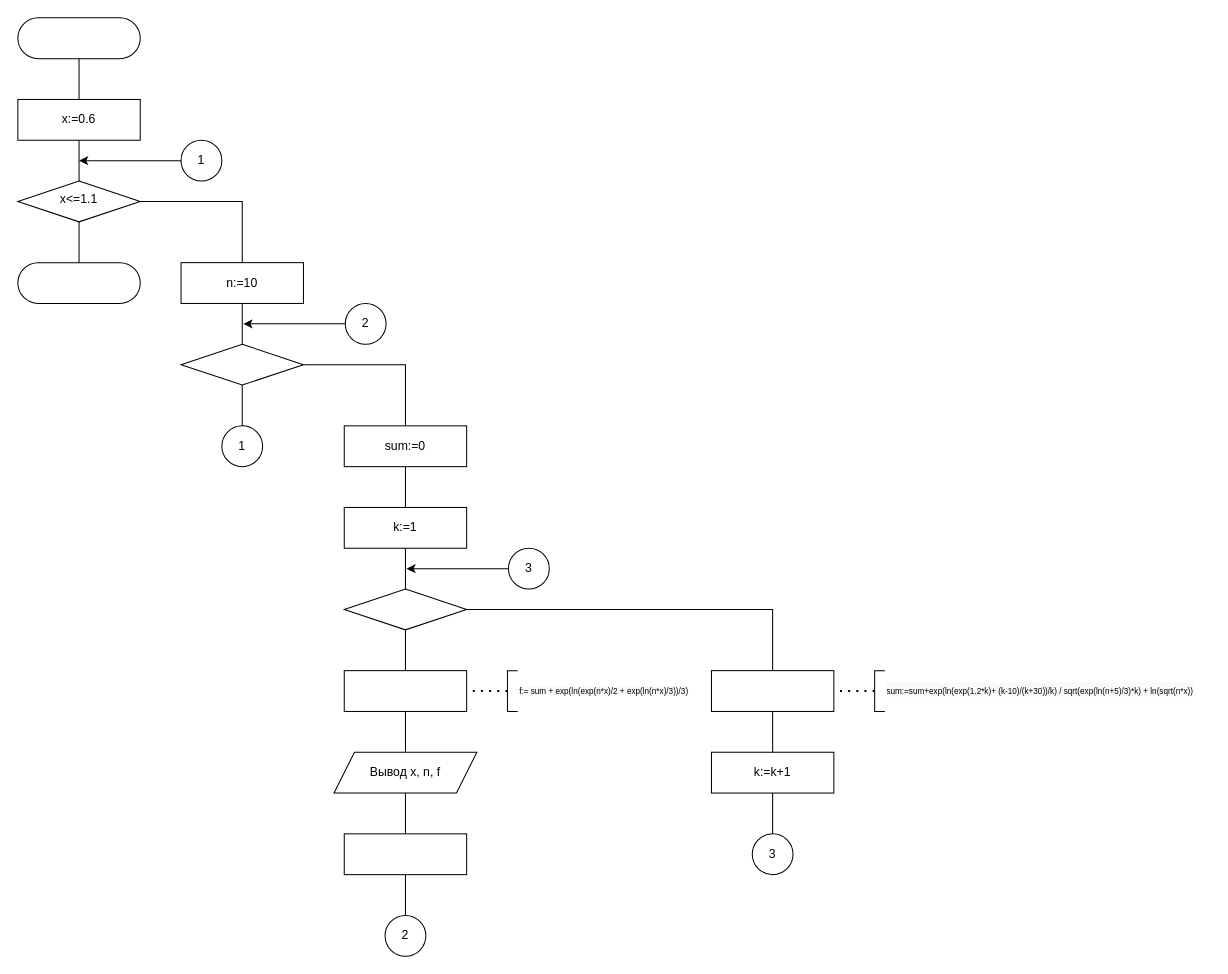
The diagram is 1228 pixels wide and 974 high, and some of its shapes have lost their labels. Here are the shapes that lost their labels. From the top down, the centre of each, then its label:
At (78,38): "Вход".
At (78,282): "Выход".
At (241,364): "n<=15".
At (405,609): "k<=n".
At (405,690): "f:=".
At (772,690): "sum:=".
At (405,854): "n:=n+1".
